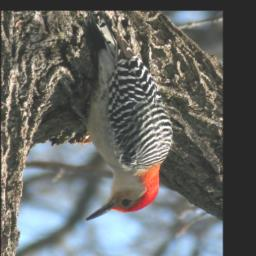Woodpecker: (67, 14, 176, 223)
